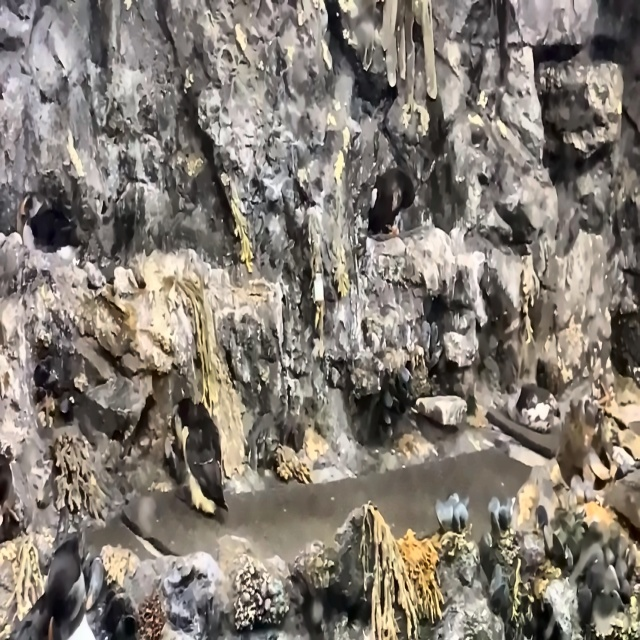puffin: (19, 540, 98, 639), (170, 394, 229, 521), (366, 165, 415, 237), (20, 190, 74, 248)
